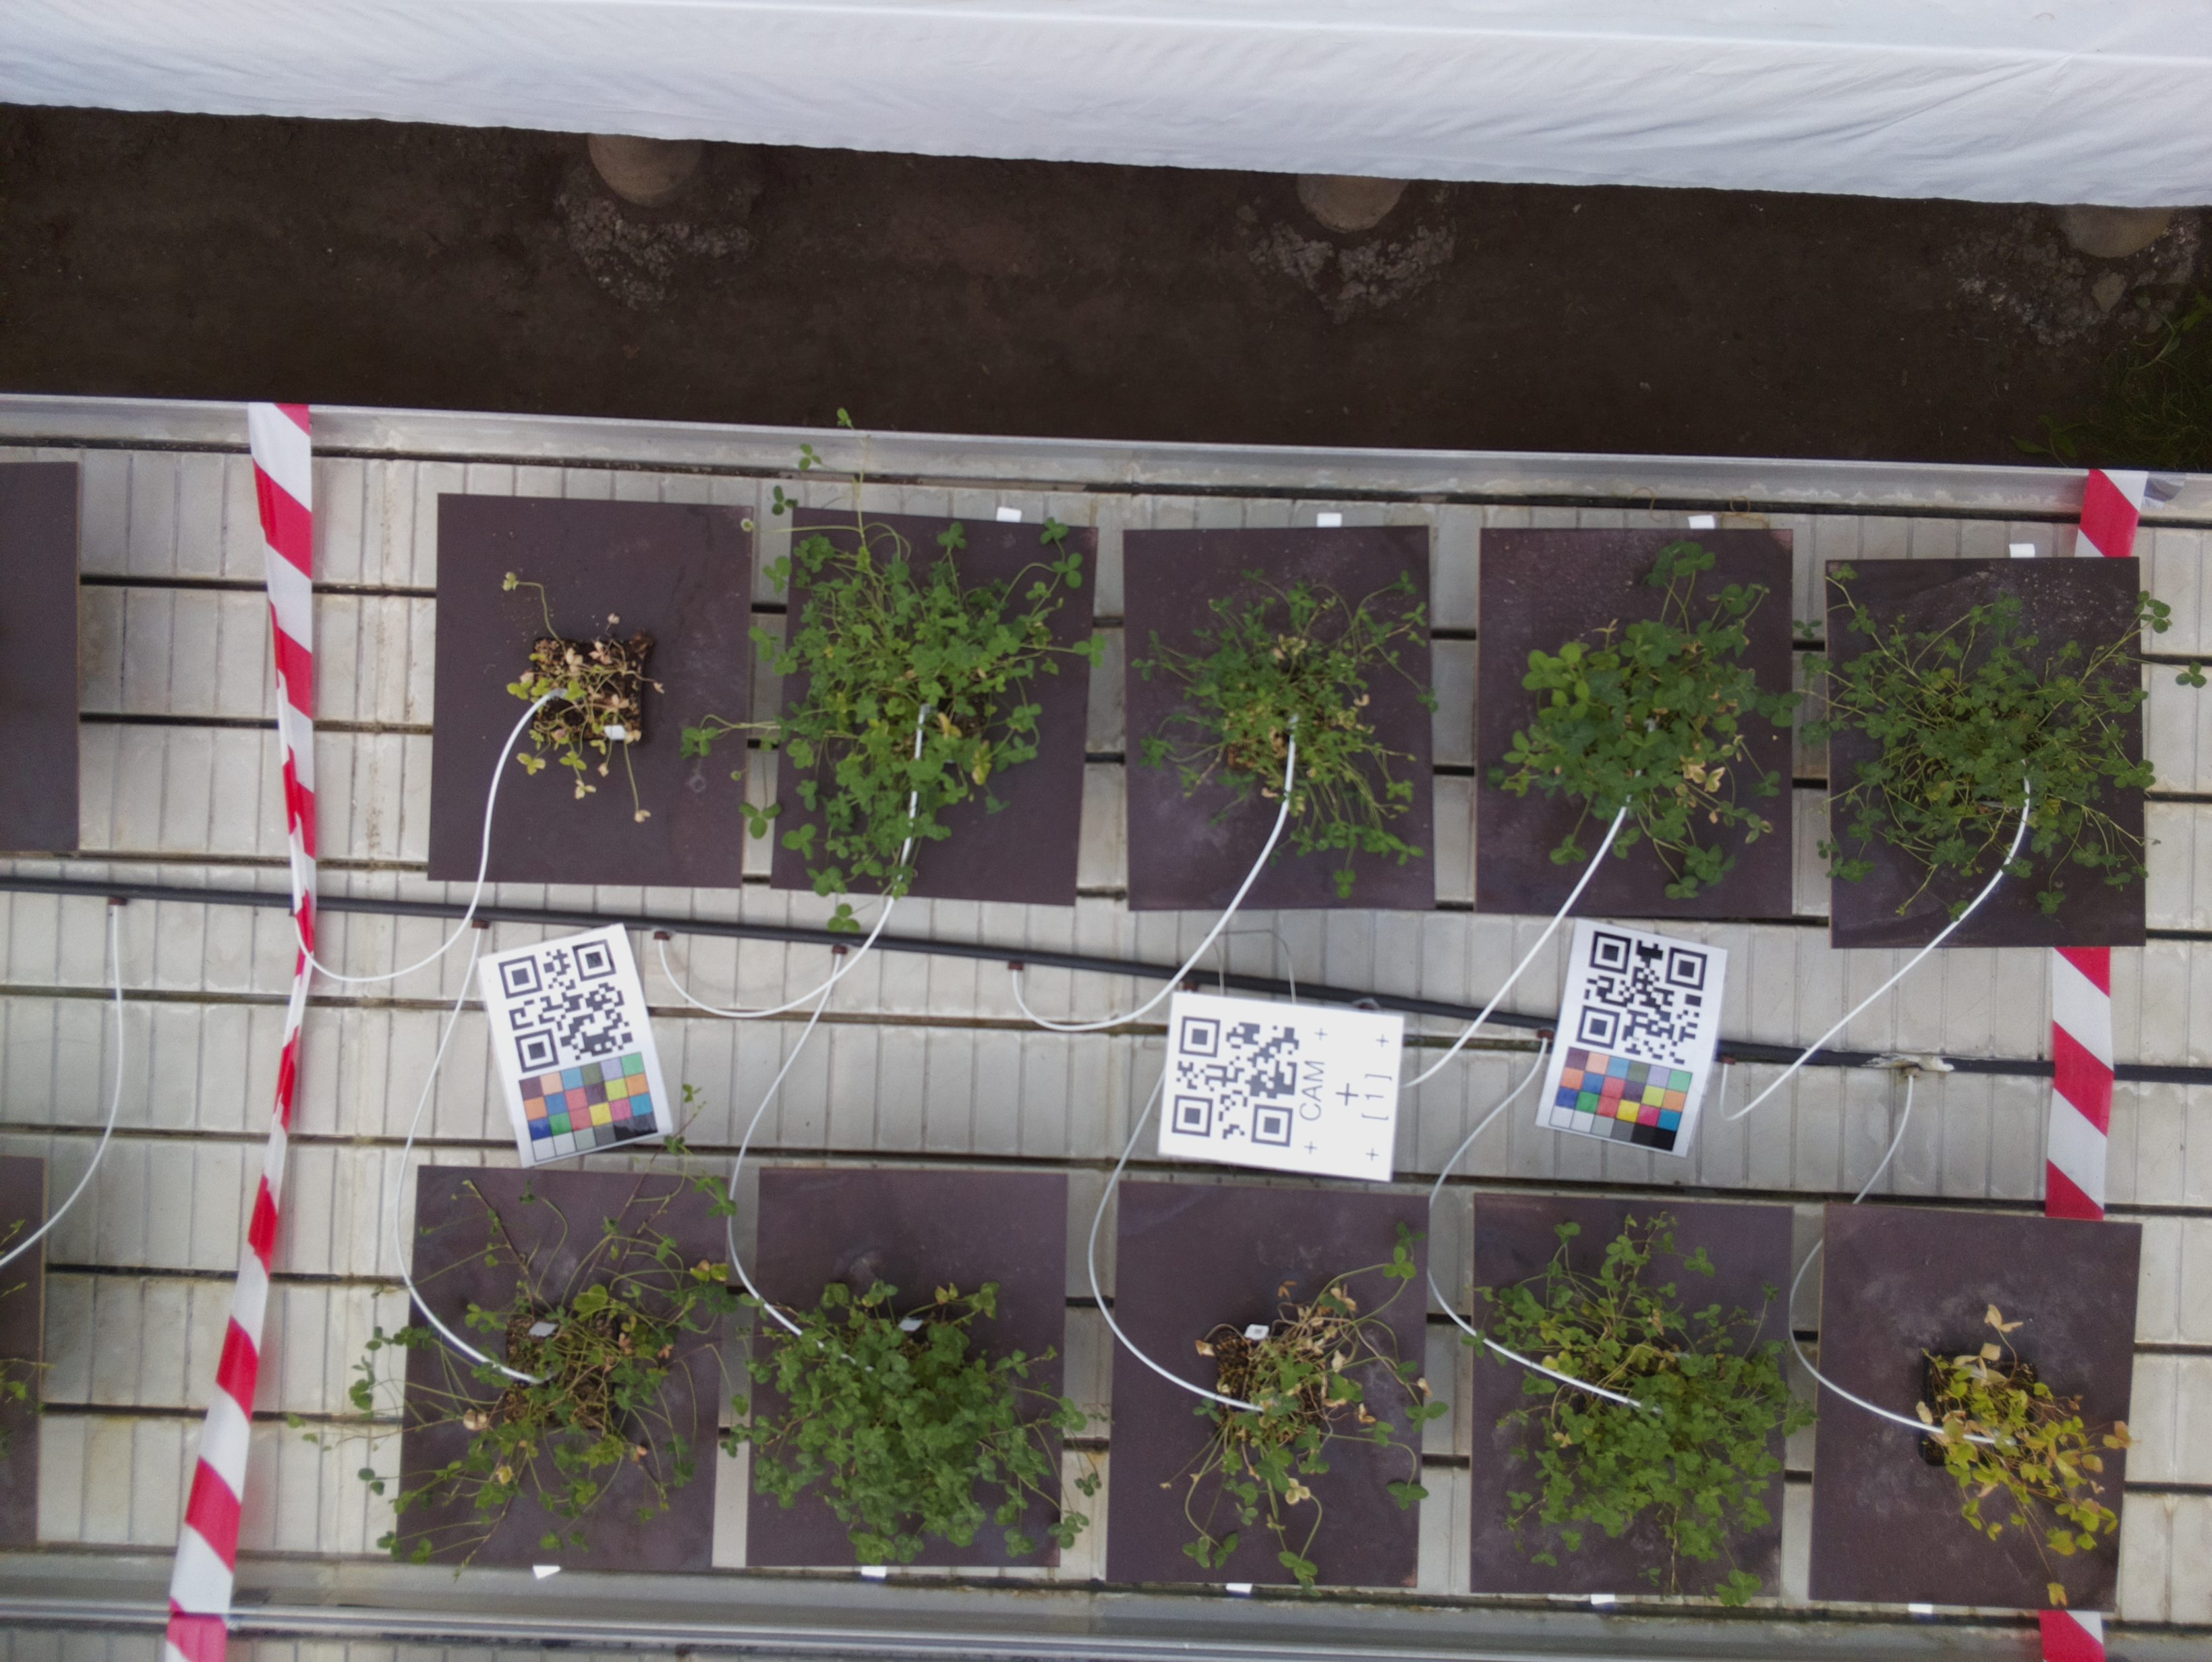POT: (436, 491, 754, 885), (1828, 566, 2154, 946), (1117, 1175, 1421, 1582), (754, 1166, 1061, 1568), (1475, 1196, 1783, 1592), (424, 1168, 723, 1569), (1826, 1201, 2119, 1610), (779, 513, 1079, 903), (1482, 531, 1783, 918), (1128, 536, 1439, 903)
QRCODE: (1163, 988, 1404, 1178)
QRCOLOR: (478, 920, 676, 1166), (1533, 924, 1728, 1156)
